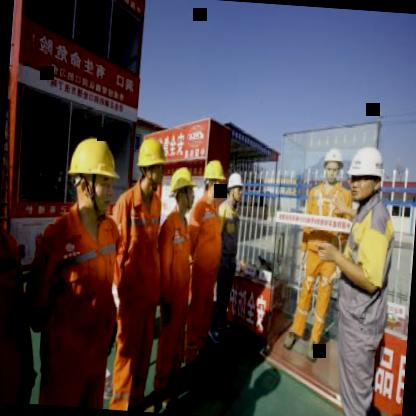helmet: (64, 128, 126, 225), (346, 144, 388, 204), (134, 132, 171, 198), (168, 164, 196, 214), (200, 157, 225, 205), (320, 144, 347, 184), (224, 168, 246, 206)
